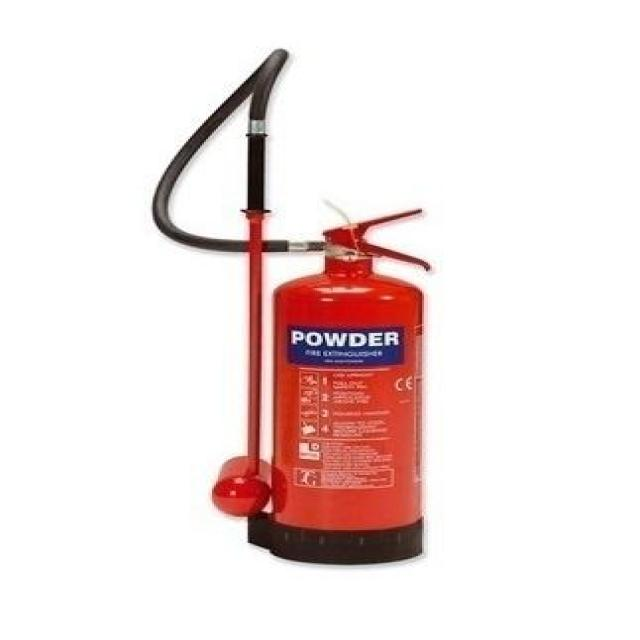fire_extinguisher: (142, 44, 437, 568)
